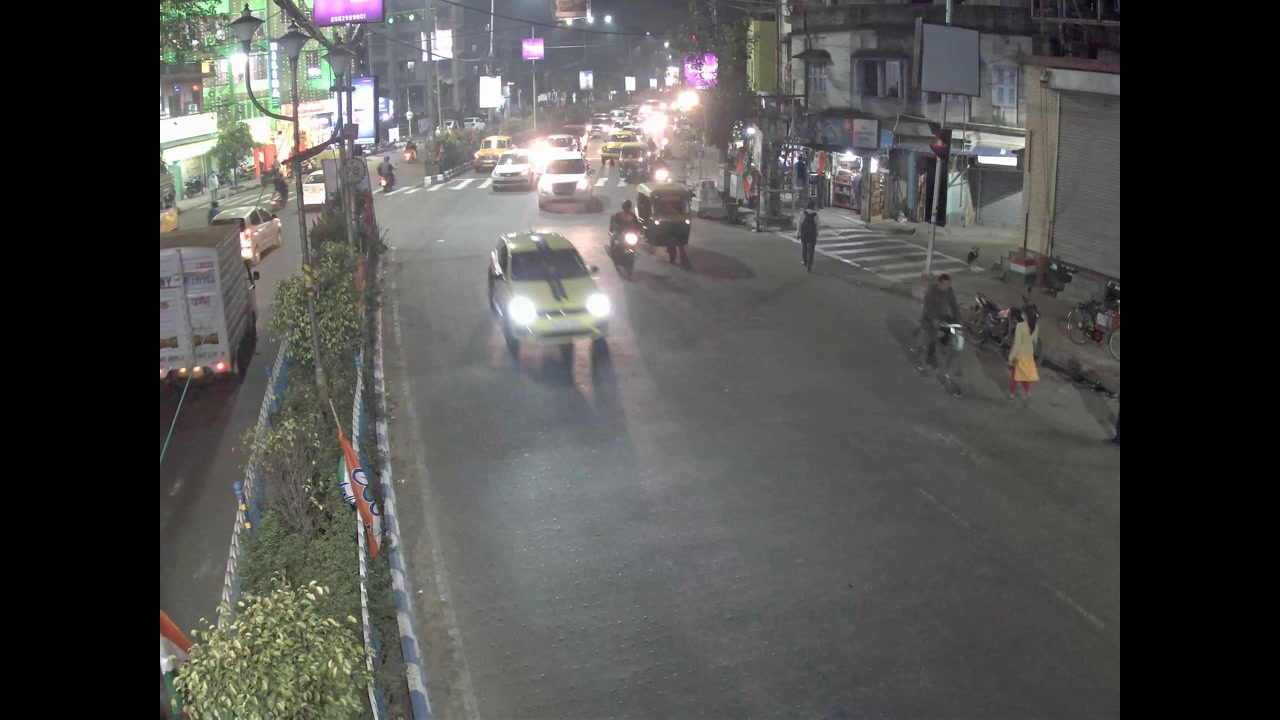auto-rickshaw: (634, 181, 720, 263), (615, 145, 652, 183)
bike: (606, 228, 648, 274), (373, 159, 400, 190), (399, 137, 421, 165)
car: (480, 225, 608, 348), (213, 206, 285, 252), (542, 151, 586, 209), (490, 148, 532, 190), (476, 133, 507, 161)
person: (1000, 305, 1041, 401), (921, 262, 960, 356), (792, 191, 823, 275), (608, 194, 643, 244)
